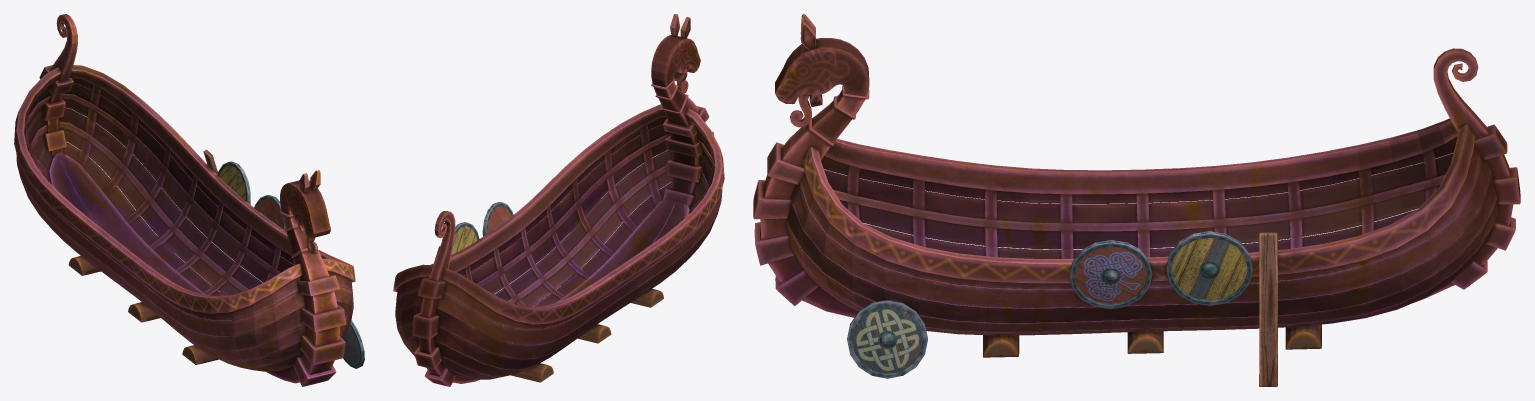
File: ship.FBX
The picture shows the model from 3 angles, left to right: view 1: azimuth 30°, elevation 25°; view 2: azimuth 150°, elevation 25°; view 3: azimuth 270°, elevation 25°; orthographic projection. The views are drawn at different scales.
Visible parts, largest first — view 1: Object002; view 2: Object002; view 3: Object002.
Boxes of the visible parts, x1,y1,x2,y2 form: Object002: [14, 14, 364, 386]; Object002: [393, 14, 724, 386]; Object002: [753, 14, 1520, 386].
Bounding box in the file's own units: 306 × 379 × 842.
